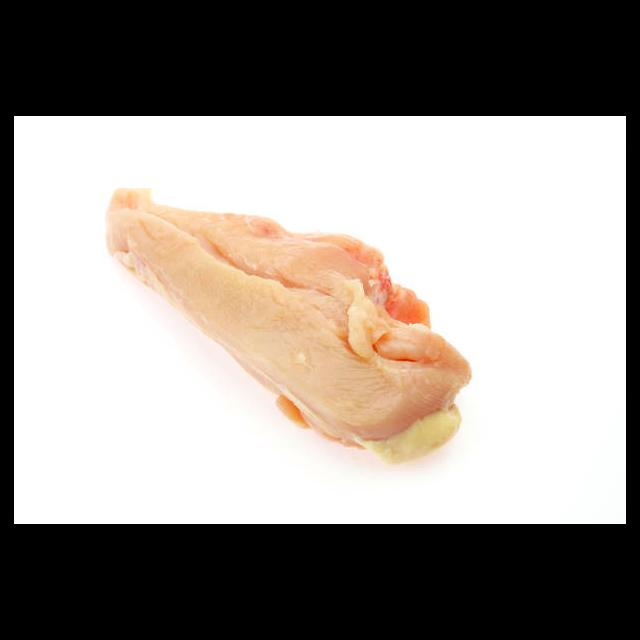chicken: (107, 186, 474, 469)
